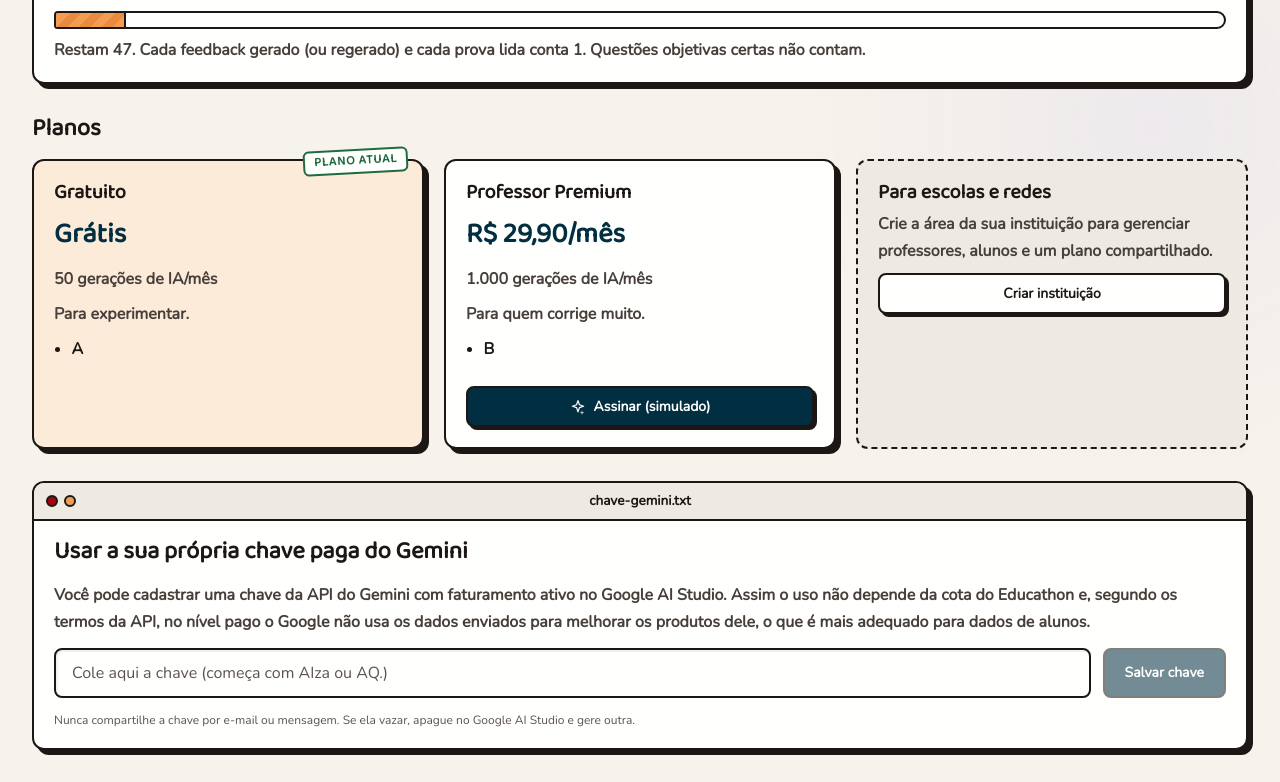
Test case: Planos e pagamento simulado › salva a chave própria do Gemini e limpa o campo
(page scrolled)
Type "AIzaChaveDeTeste123456789" into the password field named "Chave da API do Gemini". click: (572, 673)
box: [54,648,1090,698]
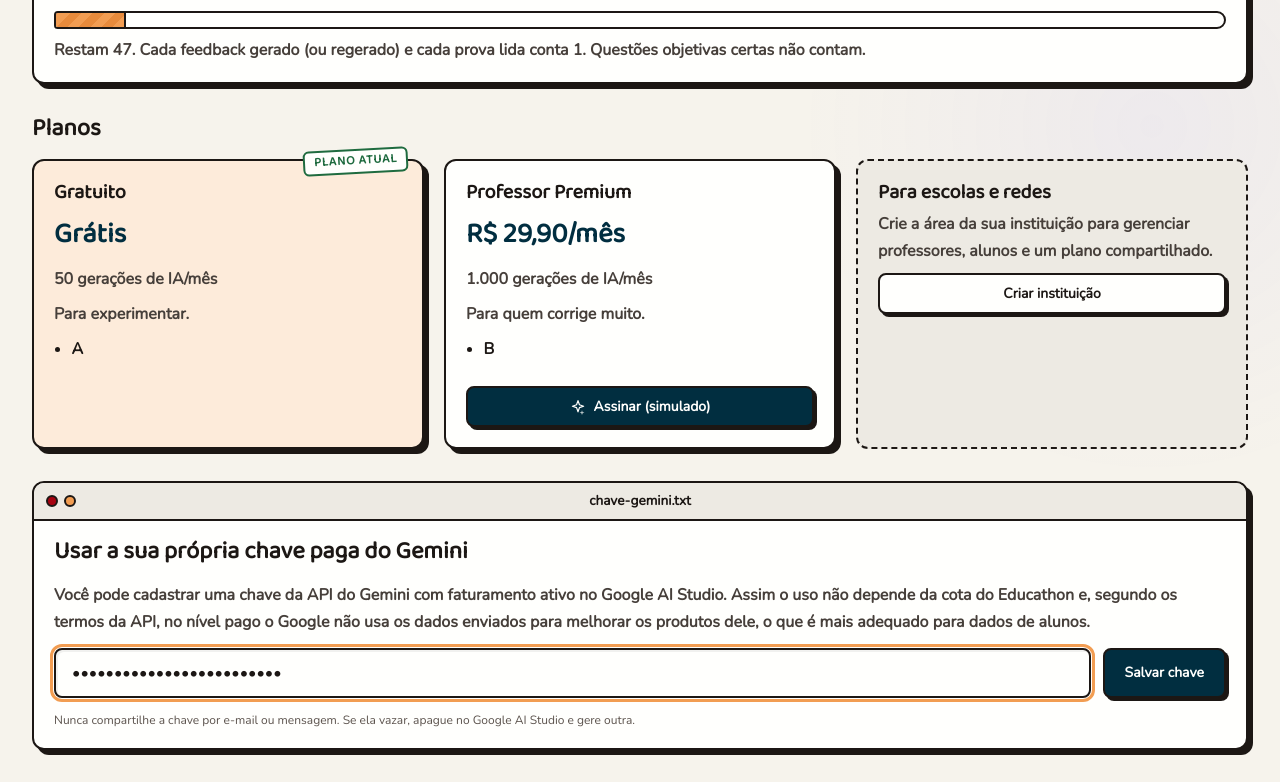
Click the button "Salvar chave". click: (1164, 673)
box: [1102,648,1226,698]
(page scrolled)
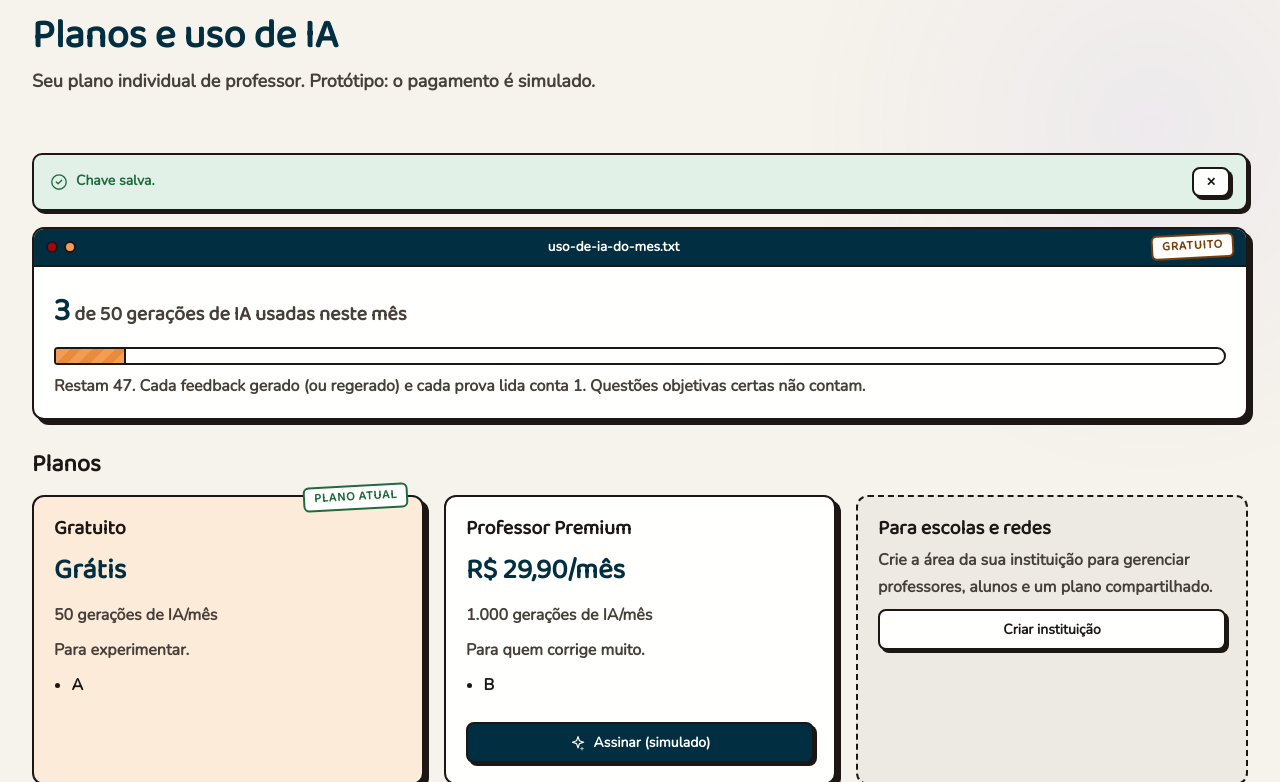
Expected: the text "Chave salva." is shown, [76,171,155,190]
